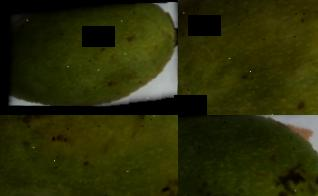Unripe: (0, 0, 178, 115), (178, 0, 318, 115), (0, 115, 178, 196), (178, 115, 318, 196)
